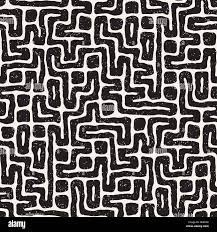maze: (1, 1, 217, 216)
